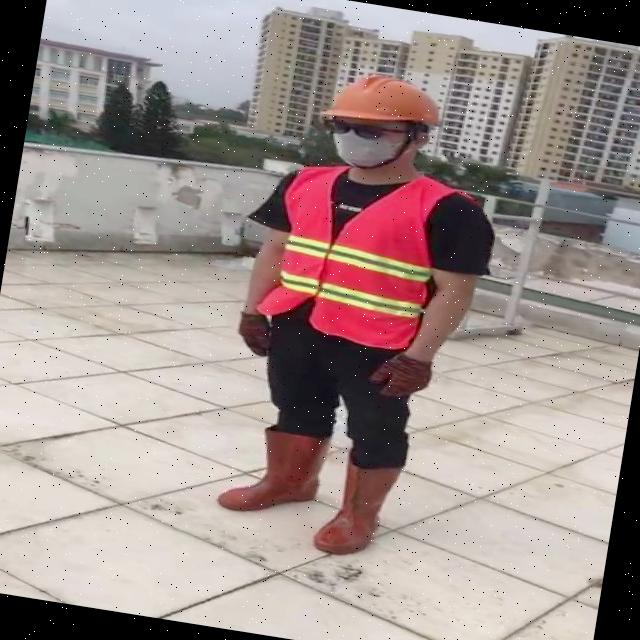vest: (256, 156, 446, 354)
